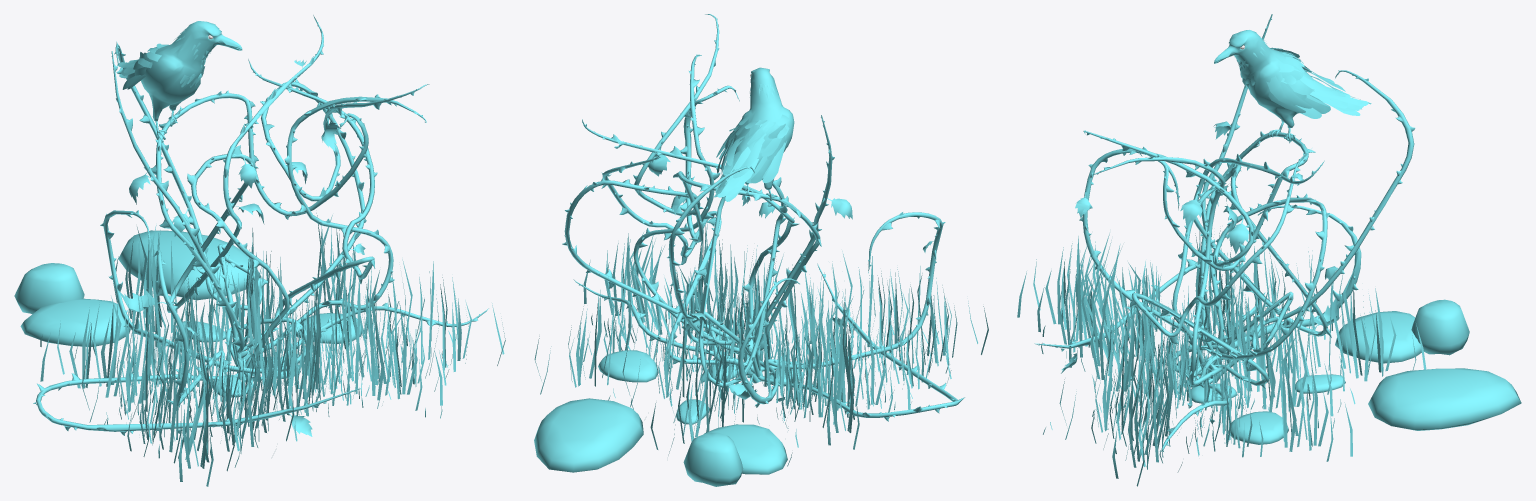
File: Ryealm.fbx
The picture shows the model from 3 angles, left to right: view 1: azimuth 30°, elevation 25°; view 2: azimuth 150°, elevation 25°; view 3: azimuth 270°, elevation 25°; orthographic projection. The views are drawn at different scales.
Parts seen in each view (by area): view 1: crow; view 2: crow; view 3: crow.
Boxes of the visible parts, x1,y1,x2,y2 form: crow: (14, 15, 505, 486); crow: (534, 14, 988, 486); crow: (1017, 14, 1521, 486).
Bounding box in the file's own units: 3048 × 2380 × 3186.
